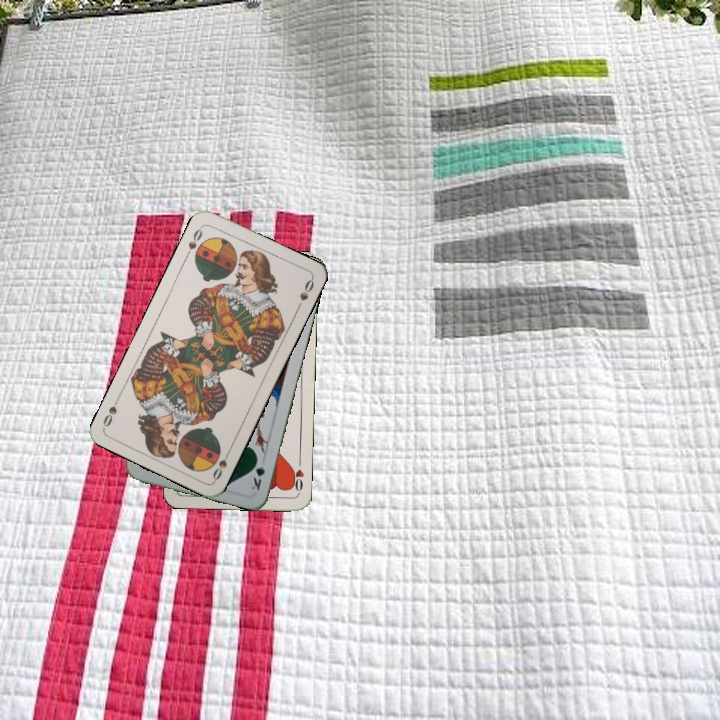GK: (246, 453, 267, 493)
HO: (287, 455, 306, 495)
SO: (208, 445, 233, 484), (181, 222, 205, 261)
